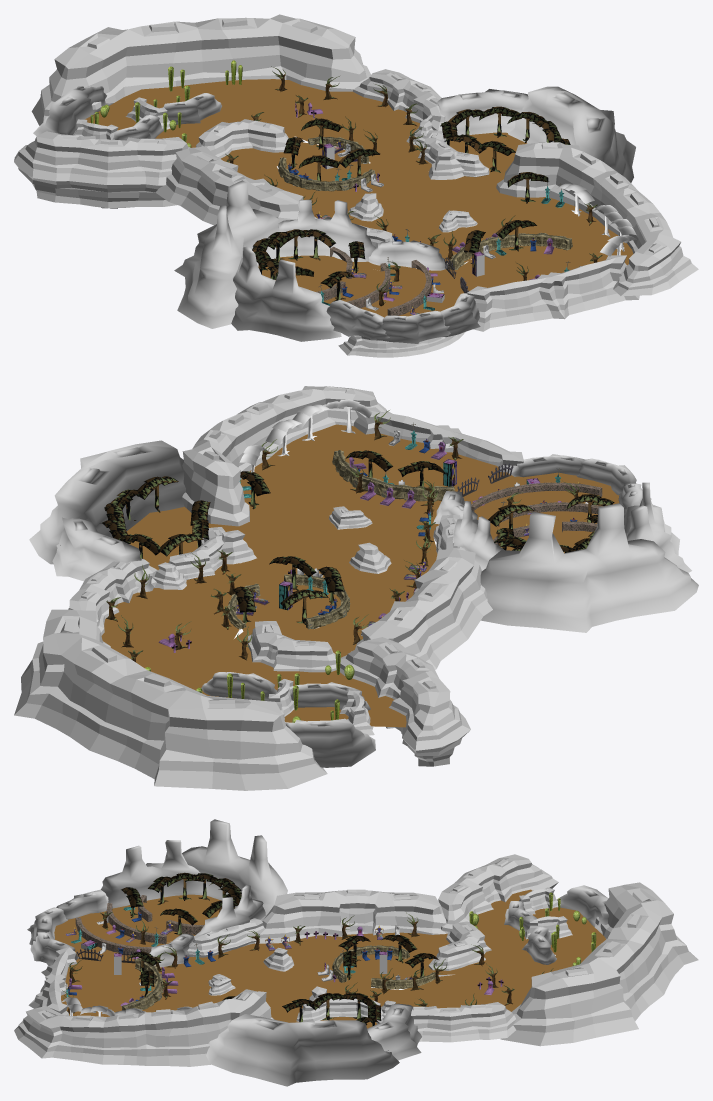
File: decorado.fbx
The picture shows the model from 3 angles, top to bottom: view 1: azimuth 30°, elevation 25°; view 2: azimuth 150°, elevation 25°; view 3: azimuth 270°, elevation 25°; orthographic projection. The views are drawn at different scales.
Visible parts, largest first — view 1: E01_RockWalls, 0_Floor, E01_Vegetation, E01_Tombs; view 2: E01_RockWalls, 0_Floor, E01_Vegetation, E01_Tombs; view 3: E01_RockWalls, 0_Floor, E01_Vegetation, E01_Tombs.
Boxes of the visible parts, box(x1,y1,x2,y2) form: E01_RockWalls: box(14, 14, 698, 357); 0_Floor: box(85, 79, 633, 317); E01_Vegetation: box(90, 60, 636, 306); E01_Tombs: box(288, 102, 581, 314); E01_RockWalls: box(14, 386, 698, 790); 0_Floor: box(101, 424, 619, 727); E01_Vegetation: box(100, 399, 614, 722); E01_Tombs: box(158, 422, 588, 652); E01_RockWalls: box(14, 819, 698, 1086); 0_Floor: box(54, 889, 605, 1028); E01_Vegetation: box(61, 872, 596, 1026); E01_Tombs: box(65, 907, 503, 1006).
Bounding box in the file's own units: 7942 × 1635 × 10425.
